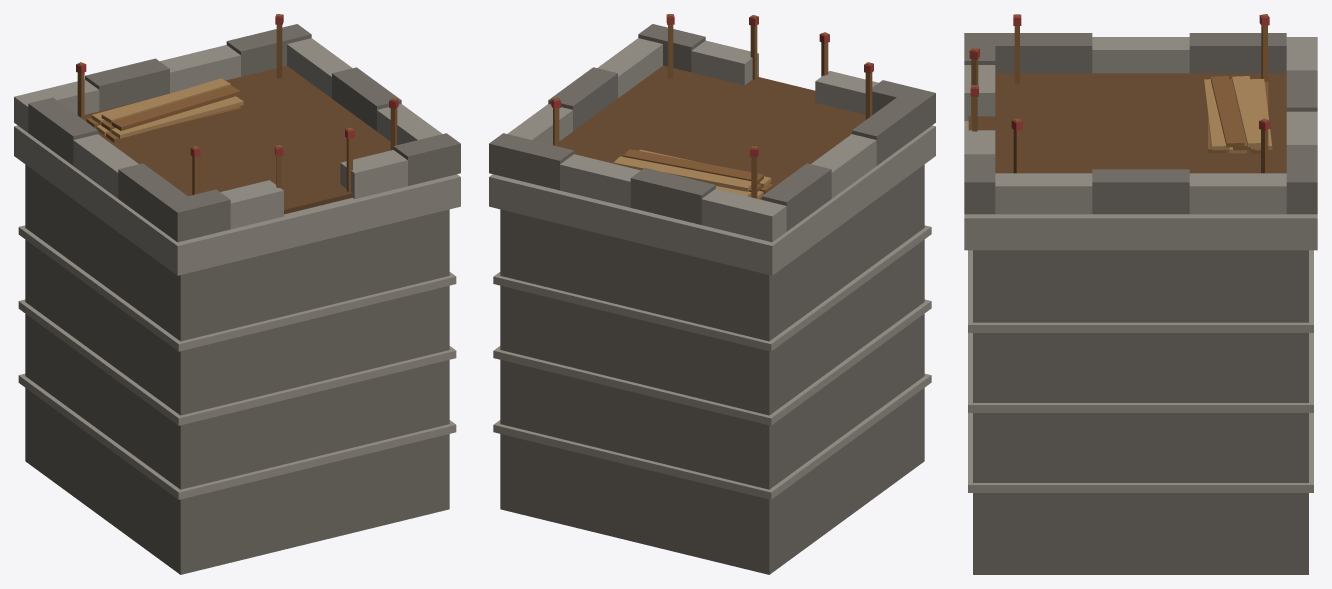
Rendered from site_4x4_1.glb.
The picture shows the model from 3 angles, left to right: view 1: azimuth 30°, elevation 25°; view 2: azimuth 150°, elevation 25°; view 3: azimuth 270°, elevation 25°; orthographic projection. The views are drawn at different scales.
Visible parts, largest first — view 1: site_4x4_1; view 2: site_4x4_1; view 3: site_4x4_1.
Boxes of the visible parts, left/top/right/bottom form: site_4x4_1: left=14, top=14, right=460, bottom=574; site_4x4_1: left=489, top=14, right=935, bottom=574; site_4x4_1: left=964, top=14, right=1317, bottom=574.
Bounding box in the file's own units: 4 × 5.45 × 4.
